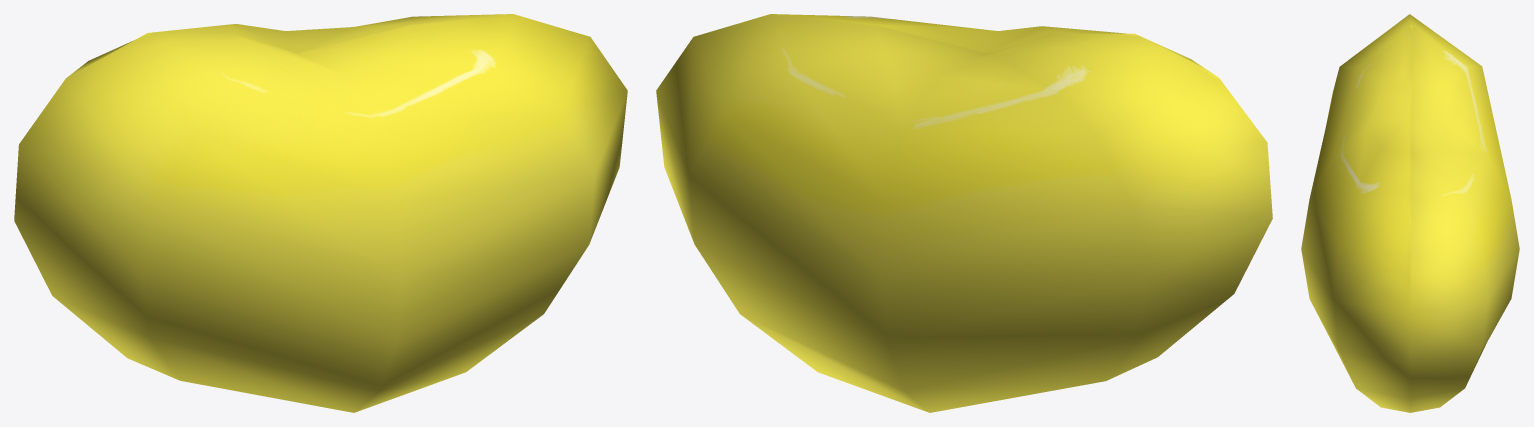
The model's file is PeaCandy.fbx.
3 views of the same model, side by side, from view 1: azimuth 30°, elevation 25°; view 2: azimuth 150°, elevation 25°; view 3: azimuth 270°, elevation 25° (orthographic). The views are drawn at different scales.
Parts seen in each view (by area): view 1: Sphere.002; view 2: Sphere.002; view 3: Sphere.002.
Part boxes in pixels (<box>): Sphere.002: <box>14,14,627,412</box>; Sphere.002: <box>656,14,1272,412</box>; Sphere.002: <box>1301,14,1519,412</box>.
Size of the model in its own units: 8.92 by 5.75 by 3.88.
